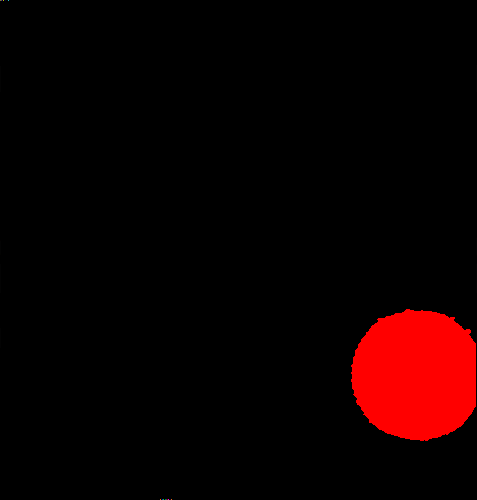stamp: (351, 309, 476, 439)
